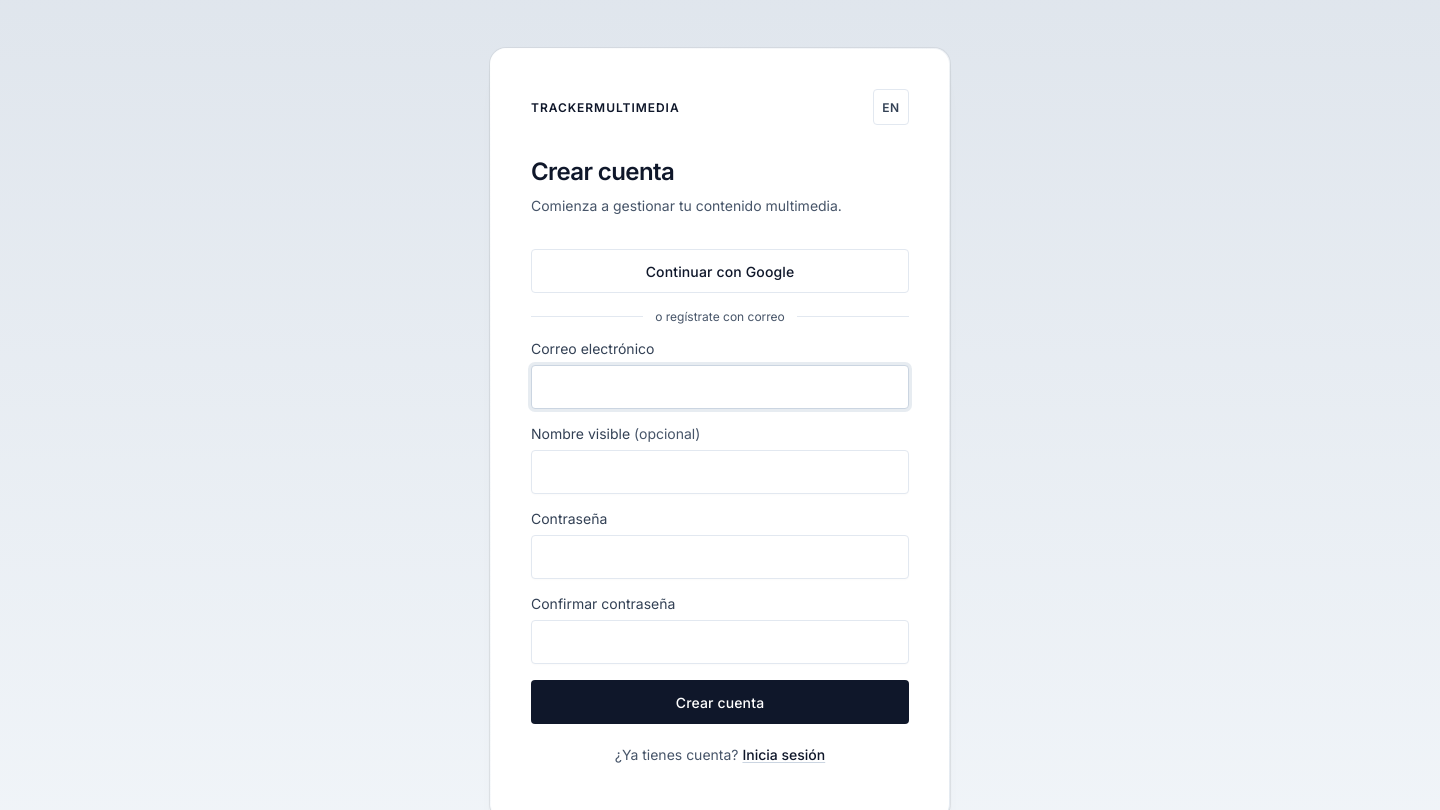
RegisterView › renders oauth actions and shows their error message when the start fails
Step 1. Click the button "Continuar con Google" → (720, 271), box left=531, top=249, right=909, bottom=293
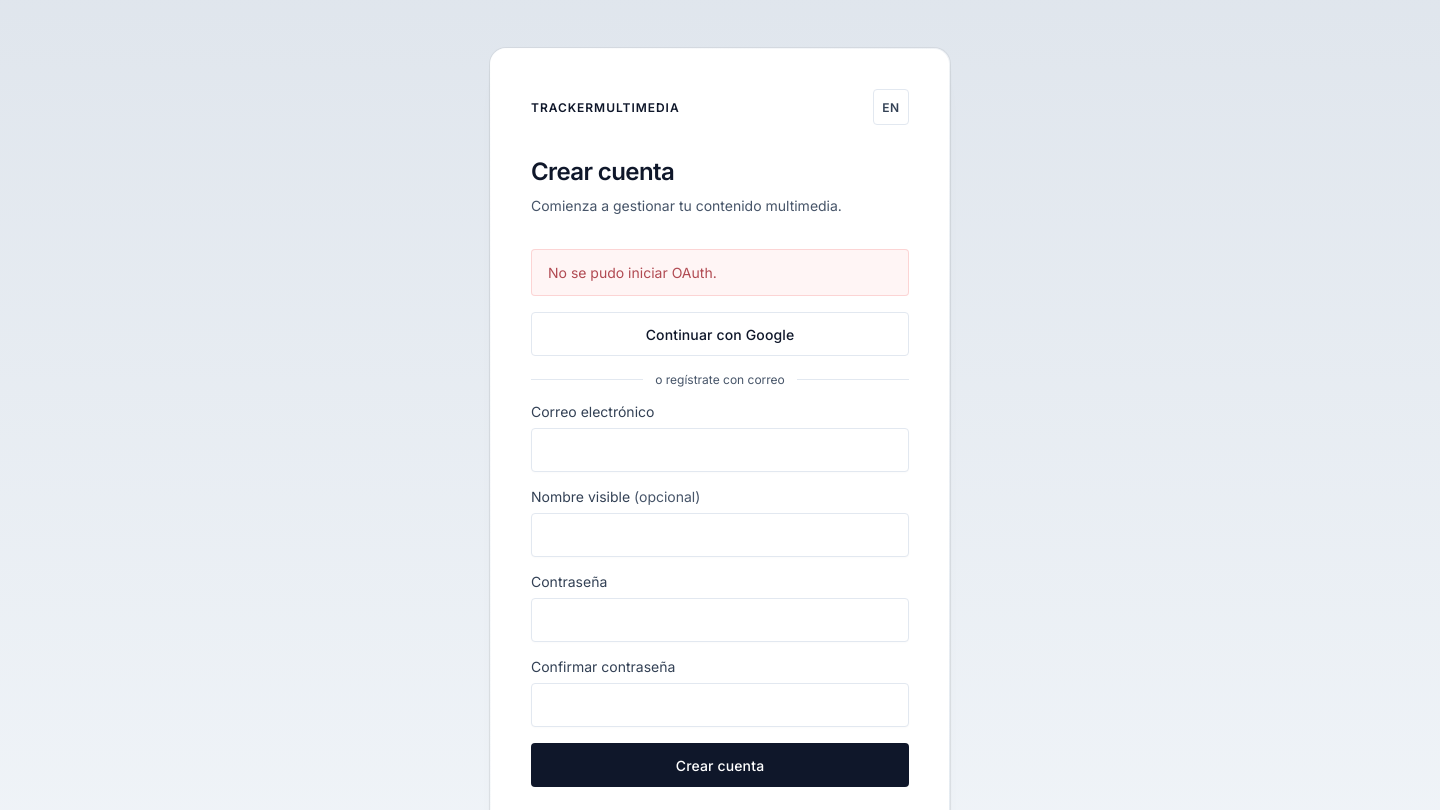
Result: the message reads "No se pudo iniciar OAuth." at left=548, top=264, right=717, bottom=281
